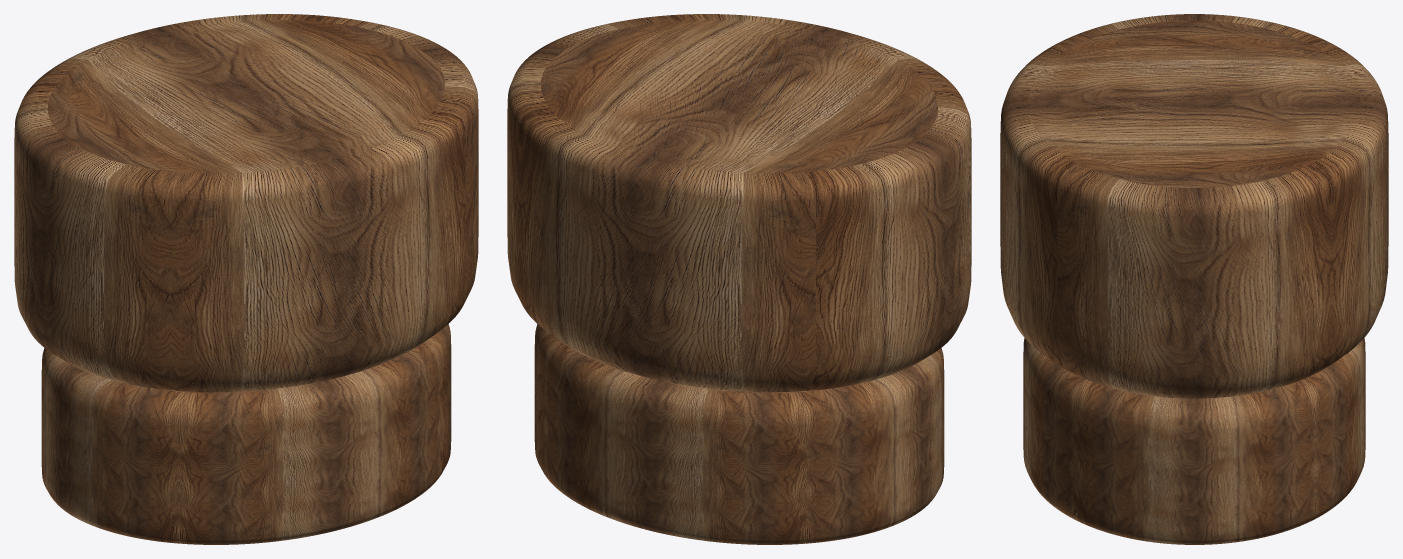
File: DonaStool.glb
3 renders of one model, left to right at view 1: azimuth 30°, elevation 25°; view 2: azimuth 150°, elevation 25°; view 3: azimuth 270°, elevation 25°, orthographic. The views are drawn at different scales.
Visible parts, largest first — view 1: Cylinder.001, Cylinder; view 2: Cylinder.001, Cylinder; view 3: Cylinder.001, Cylinder.
Boxes of the visible parts, x1,y1,x2,y2 form: Cylinder.001: (14,14,478,392); Cylinder: (41,324,451,544); Cylinder.001: (507,14,971,392); Cylinder: (534,324,944,544); Cylinder.001: (1000,14,1388,398); Cylinder: (1023,338,1365,544).
Size of the model in its own units: 0.4841 by 0.4155 by 0.4053.
Materials: 1 (1 with a texture image).
